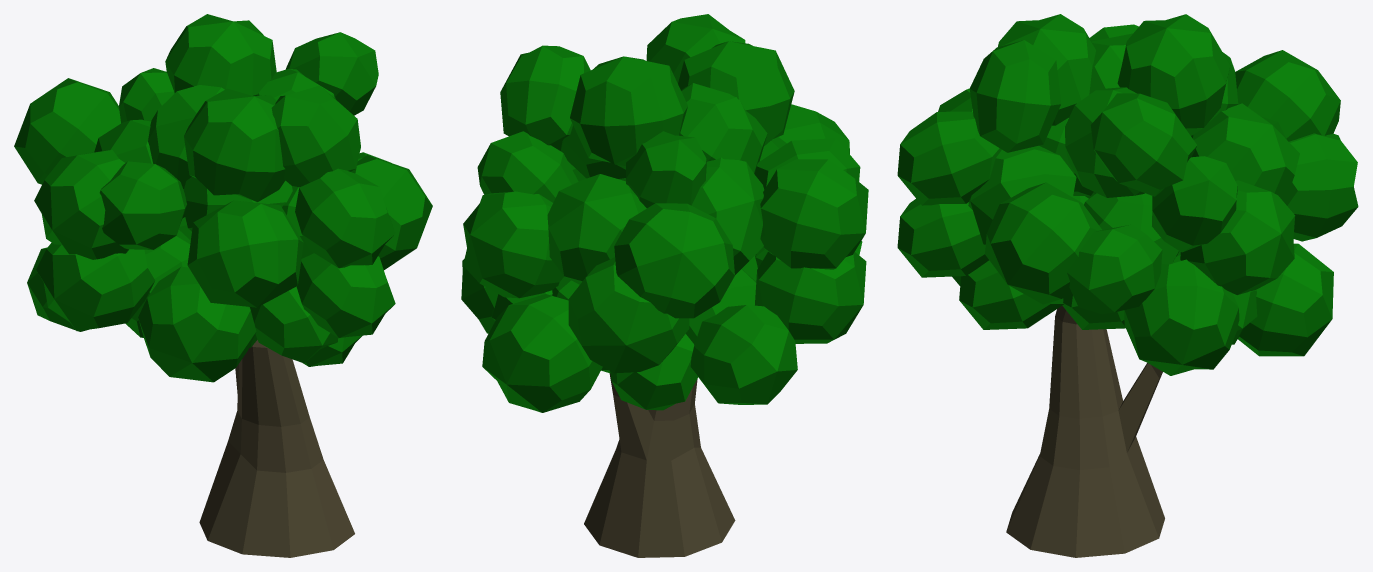
Rendered from small_tree_fixPP.fbx.
The picture shows the model from 3 angles, left to right: view 1: azimuth 30°, elevation 25°; view 2: azimuth 150°, elevation 25°; view 3: azimuth 270°, elevation 25°; orthographic projection. The views are drawn at different scales.
Parts seen in each view (by area): view 1: pCylinder2; view 2: pCylinder2; view 3: pCylinder2.
Part boxes in pixels (<box>): pCylinder2: <box>14,14,432,557</box>; pCylinder2: <box>461,14,868,557</box>; pCylinder2: <box>897,14,1358,557</box>.
Bounding box in the file's own units: 6.03 × 7.9 × 6.64.
